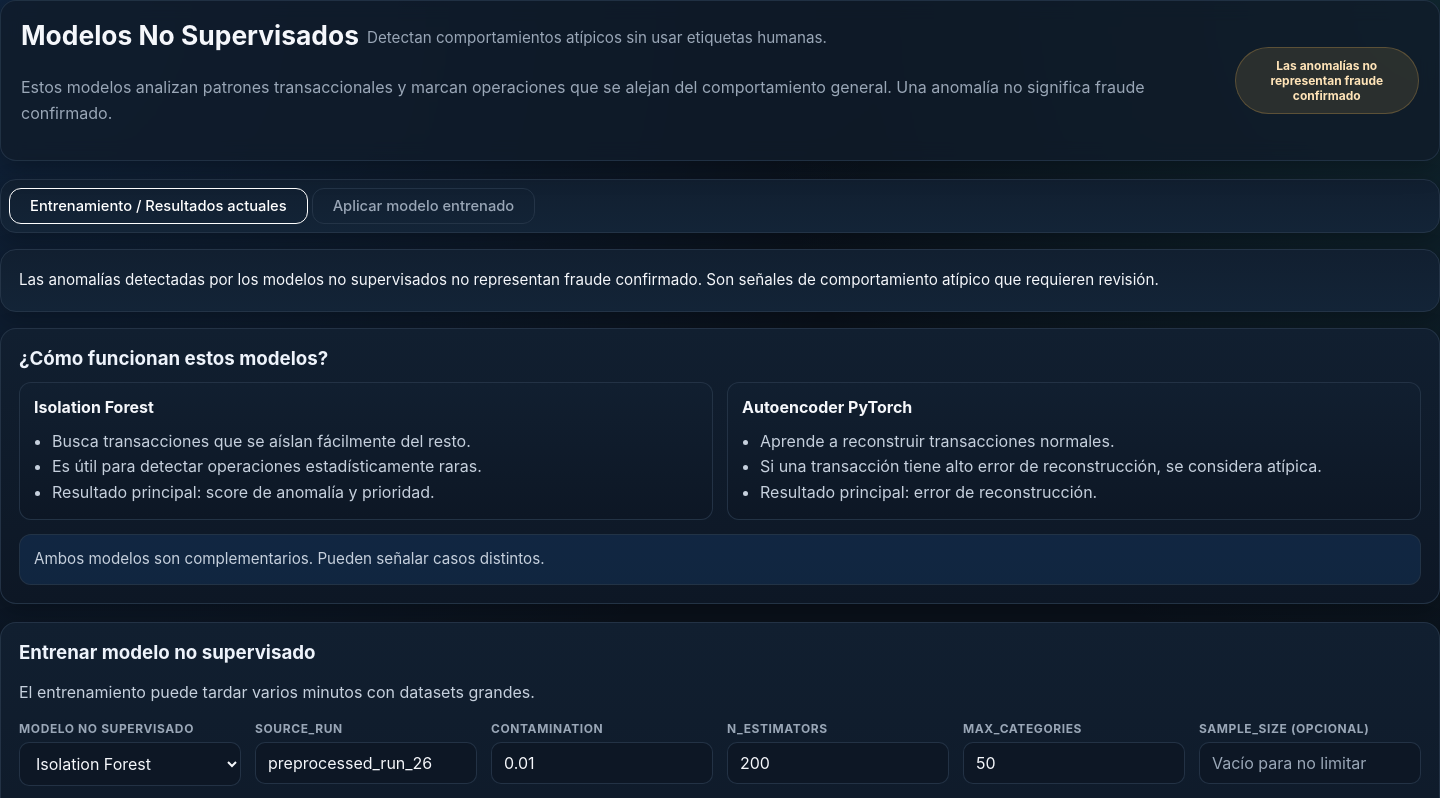
it: Models page — Aplicar modelo entrenado tab › switching back to training tab hides apply section
The image size is (1440, 798).
What coordinates should you click on to do the following:
click the button "Aplicar modelo entrenado"
I would click on:
 (424, 206)
Its box is [312, 188, 535, 224].
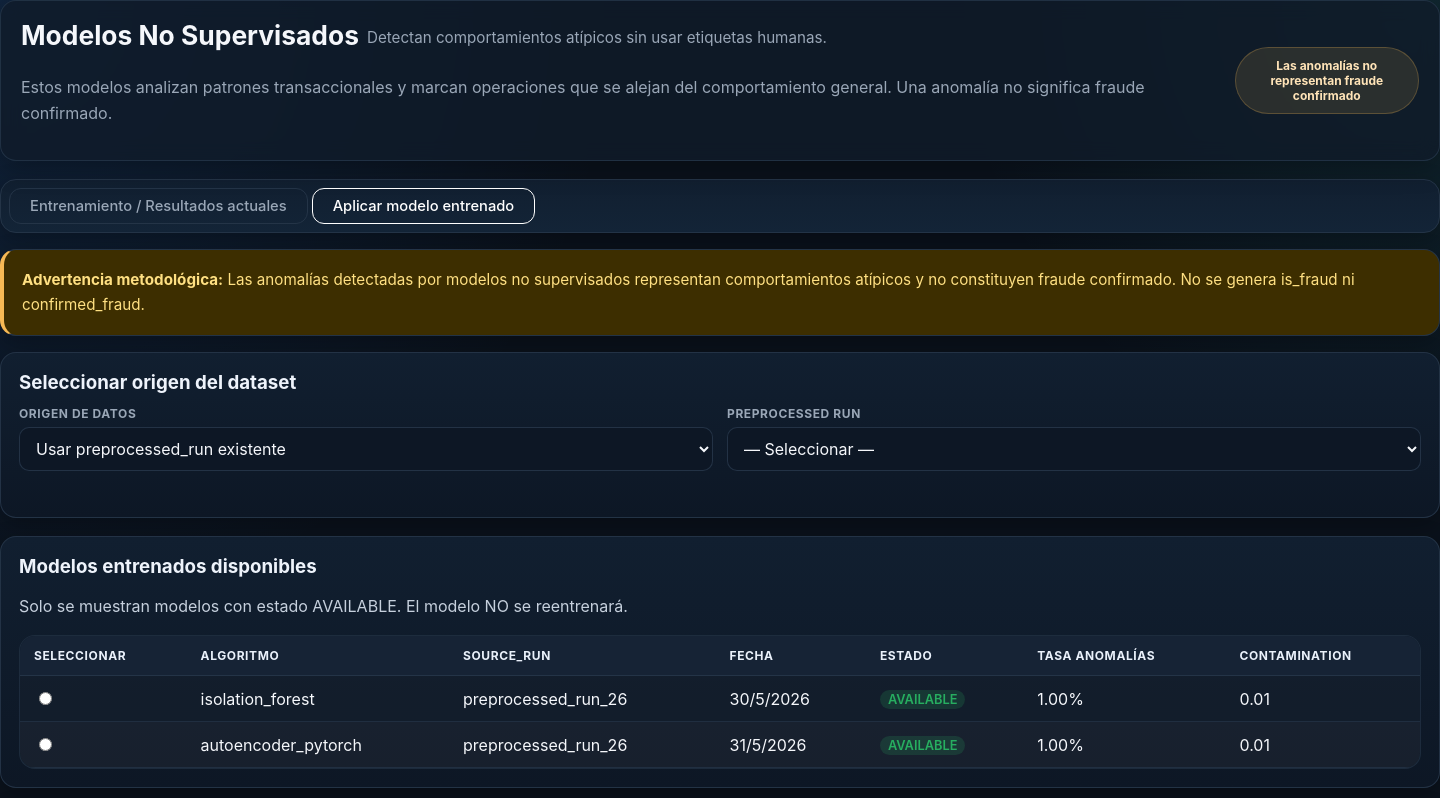
Check: the text "Advertencia metodológica:" is shown, box [22, 270, 223, 289]
What coordinates should you click on to do the following:
click the button "Entrenamiento / Resultados actuales"
I would click on:
 (158, 206)
Its box is [9, 188, 308, 224].
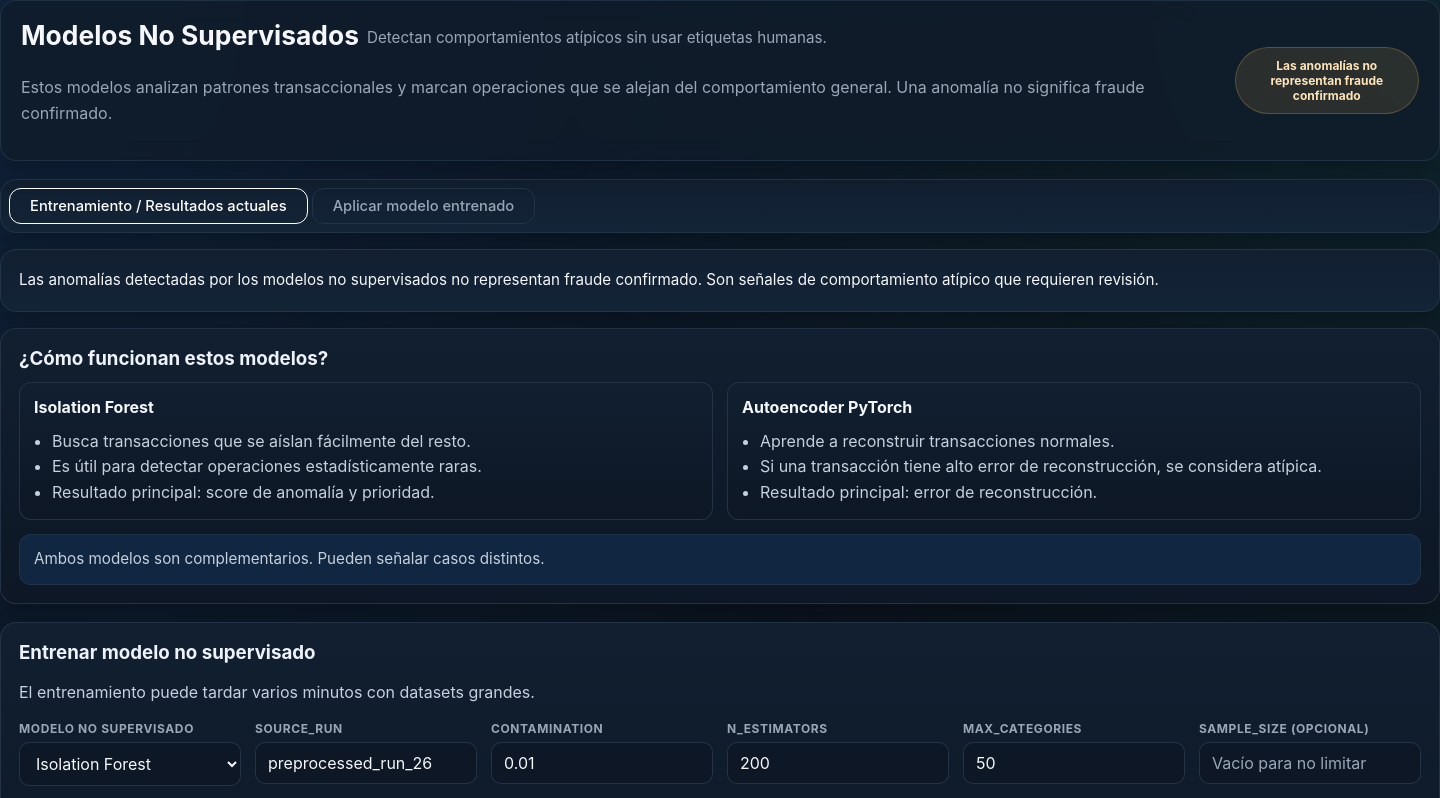
Check: the text "Advertencia metodológica" is gone
Check: the heading "Entrenar modelo no supervisado" is shown, box [19, 641, 316, 664]
